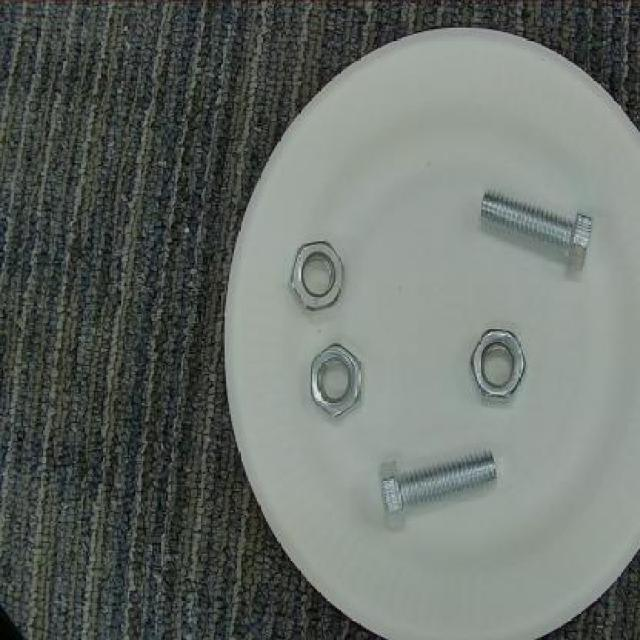Bolt: (478, 183, 597, 277), (376, 448, 505, 529)
Nut: (306, 340, 369, 422), (470, 324, 526, 408), (291, 237, 348, 312)
